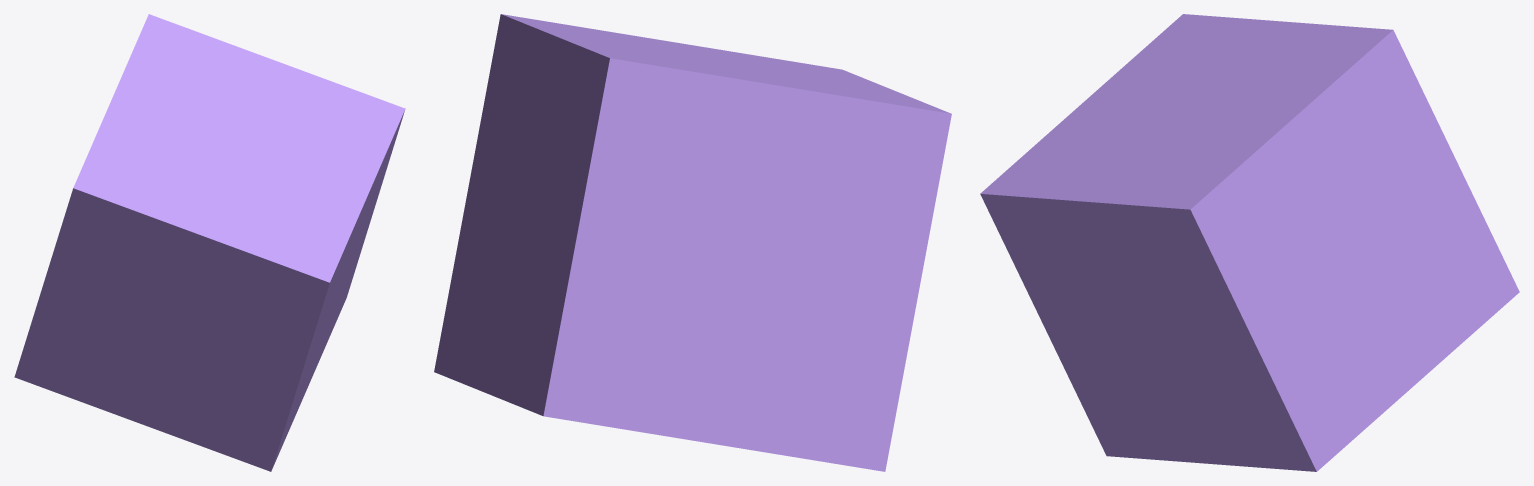
3 views of the same model, side by side, from view 1: azimuth 30°, elevation 25°; view 2: azimuth 150°, elevation 25°; view 3: azimuth 270°, elevation 25° (orthographic). The views are drawn at different scales.
Bounding box in the file's own units: 1.43 × 1.48 × 1.69.
